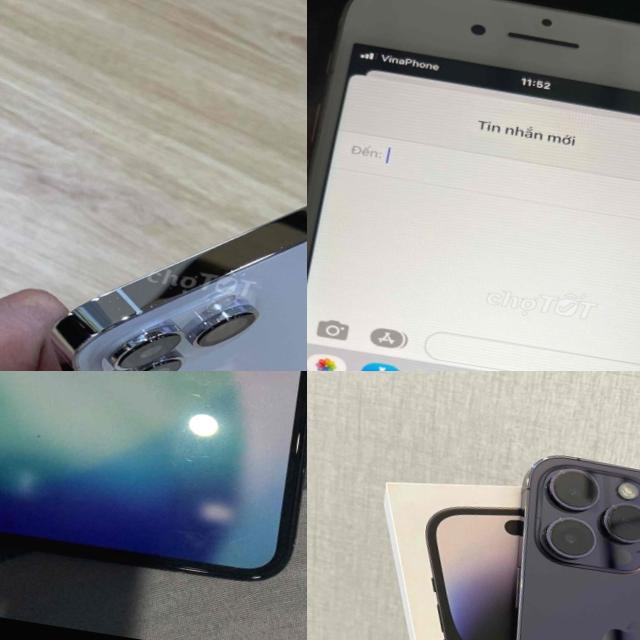scratch: (102, 288, 130, 321), (274, 240, 288, 258), (146, 300, 160, 312)
